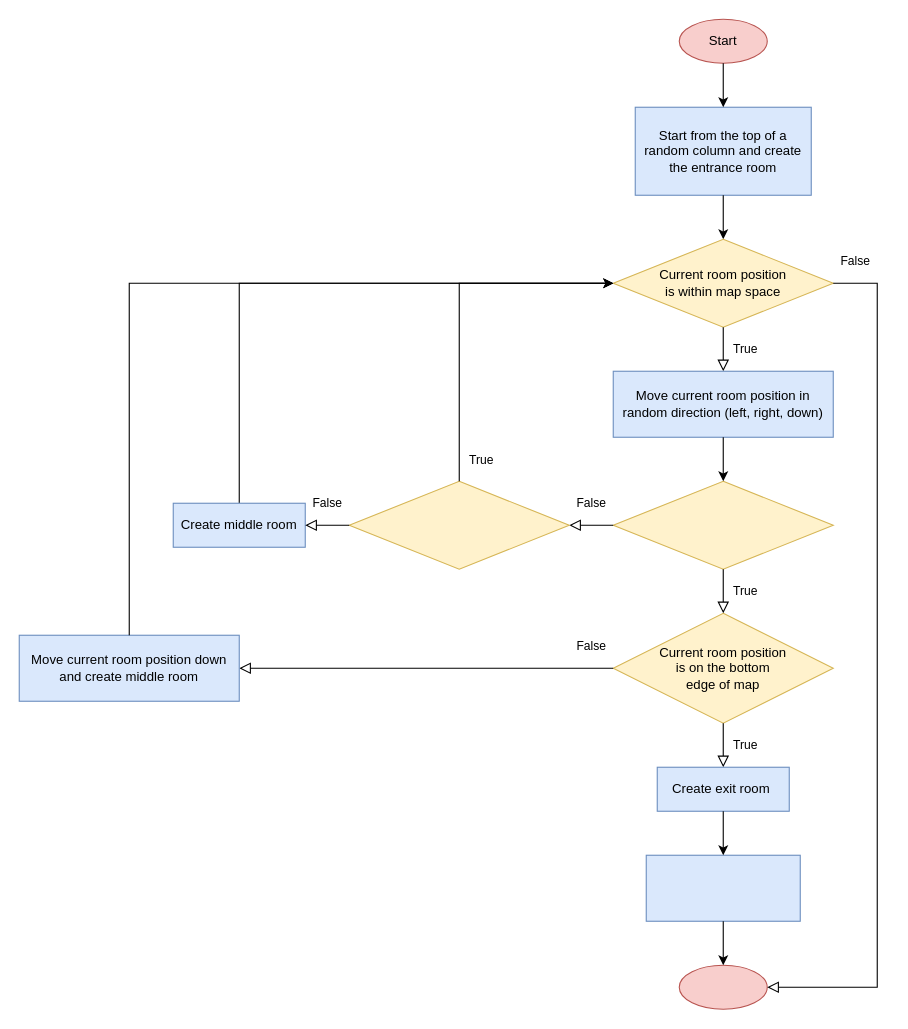
Some shapes in this 908 by 1029 pixel diagram are drawn without their labels. Here are the shapes that lost their labels. From the top down, the box of each, then its label:
(348, 480, 569, 569): Chosen direction is blocked by another room
(612, 480, 833, 569): Current room position is outside map space
(645, 854, 800, 921): Create hallway and door in down direction
(678, 964, 767, 1009): End
